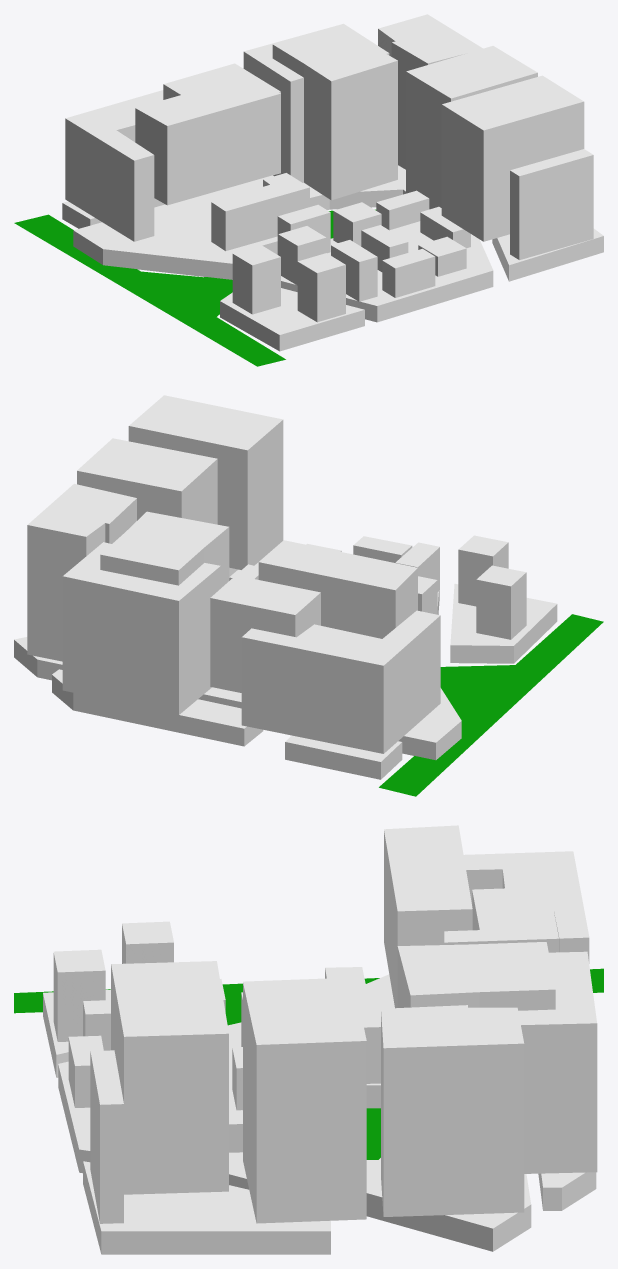
3 renders of one model, top to bottom at view 1: azimuth 30°, elevation 25°; view 2: azimuth 150°, elevation 25°; view 3: azimuth 270°, elevation 25°, orthographic. The views are drawn at different scales.
Visible parts, largest first — view 1: ID53, ID79, ID61, ID73, ID25, ID91, ID44, ID19, ID174, ID85, ID3, ID108 (+13 smaller); view 2: ID79, ID73, ID53, ID85, ID61, ID44, ID91, ID67, ID37, ID3, ID25, ID114 (+5 smaller); view 3: ID53, ID85, ID91, ID79, ID13, ID61, ID73, ID25, ID67, ID108, ID19, ID44 (+8 smaller).
Boxes of the visible parts, <box> form: ID53: <box>441,75,593,260</box>; ID79: <box>243,23,397,200</box>; ID61: <box>135,75,280,205</box>; ID73: <box>65,90,163,241</box>; ID25: <box>73,165,405,279</box>; ID91: <box>406,46,537,209</box>; ID44: <box>14,209,376,366</box>; ID19: <box>281,221,493,322</box>; ID174: <box>211,173,309,251</box>; ID85: <box>378,14,482,169</box>; ID3: <box>220,288,364,351</box>; ID108: <box>297,253,345,322</box>; ID79: <box>62,511,229,714</box>; ID73: <box>241,610,440,753</box>; ID53: <box>128,395,283,569</box>; ID85: <box>27,483,136,661</box>; ID61: <box>258,540,417,638</box>; ID44: <box>379,614,603,796</box>; ID91: <box>77,438,217,524</box>; ID67: <box>210,564,320,692</box>; ID37: <box>52,669,263,746</box>; ID3: <box>450,583,557,663</box>; ID25: <box>14,637,461,760</box>; ID114: <box>476,565,526,639</box>; ID53: <box>90,961,228,1223</box>; ID85: <box>381,1005,524,1216</box>; ID91: <box>243,977,366,1223</box>; ID79: <box>397,942,597,1173</box>; ID13: <box>83,1161,330,1254</box>; ID61: <box>384,825,472,1008</box>; ID73: <box>463,851,589,963</box>; ID25: <box>365,974,531,1251</box>; ID67: <box>444,887,558,952</box>; ID108: <box>53,949,105,1041</box>; ID19: <box>58,1022,248,1189</box>; ID44: <box>14,968,603,1159</box>.
Bounding box in the file's own units: 199 × 68.01 × 174.
